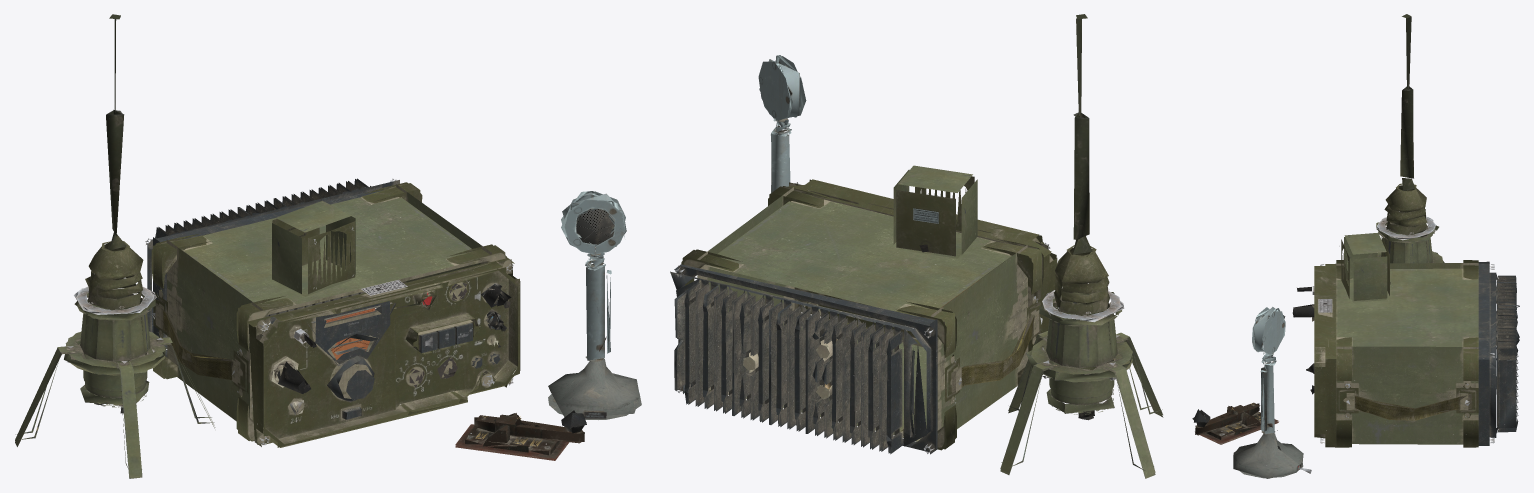
File: vintage_radio_transceiver.glb
The picture shows the model from 3 angles, left to right: view 1: azimuth 30°, elevation 25°; view 2: azimuth 150°, elevation 25°; view 3: azimuth 270°, elevation 25°; orthographic projection. The views are drawn at different scales.
Parts seen in each view (by area): view 1: vintage_radio_transceiver.001; view 2: vintage_radio_transceiver.001; view 3: vintage_radio_transceiver.001.
Part boxes in pixels (x1,y1,x2,y2): vintage_radio_transceiver.001: (15, 14, 641, 478); vintage_radio_transceiver.001: (670, 14, 1163, 478); vintage_radio_transceiver.001: (1192, 14, 1519, 478).
Bounding box in the file's own units: 0.5663 × 0.4402 × 0.4176.
Materials: 2 (2 with a texture image).
